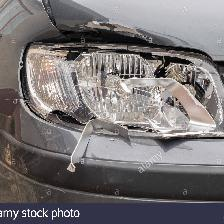head_lamp: (14, 26, 219, 153)
